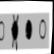correct: (24, 18, 33, 42)
not correct: (9, 12, 21, 52)
